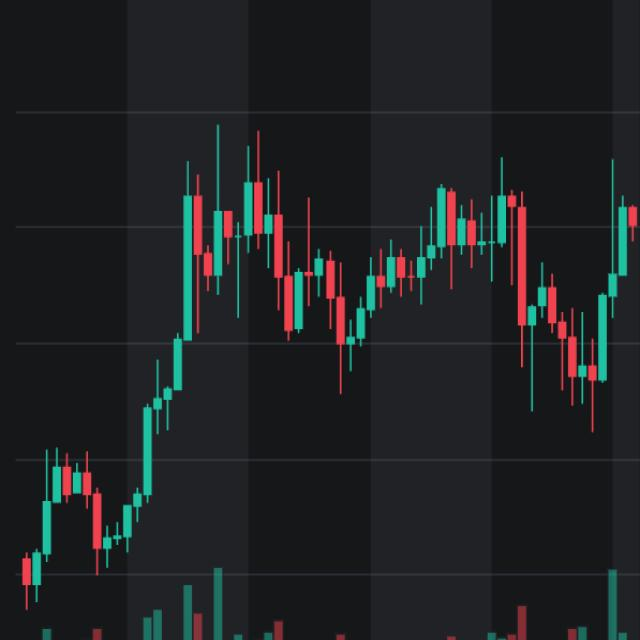Resistance-Emerging: (173, 139, 640, 392)
